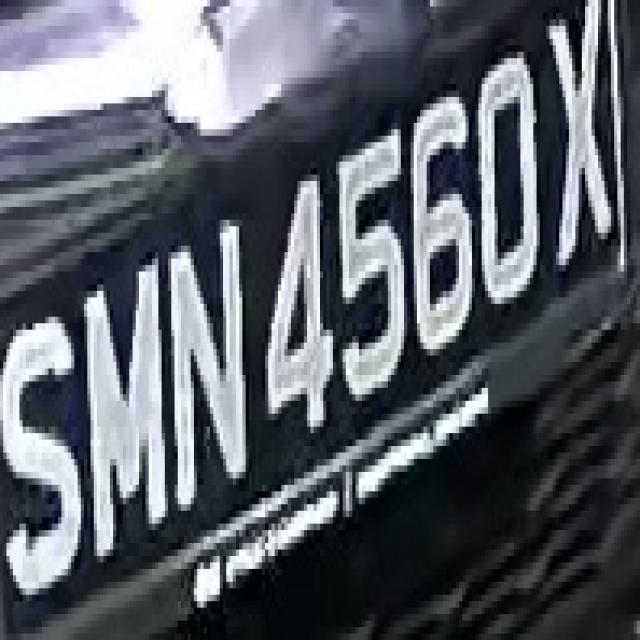0: (472, 32, 546, 343)
4: (256, 168, 336, 459)
5: (323, 129, 404, 427)
6: (398, 84, 482, 369)
M: (81, 252, 168, 550)
N: (162, 220, 262, 517)
S: (13, 285, 78, 614)
X: (550, 0, 614, 252)
